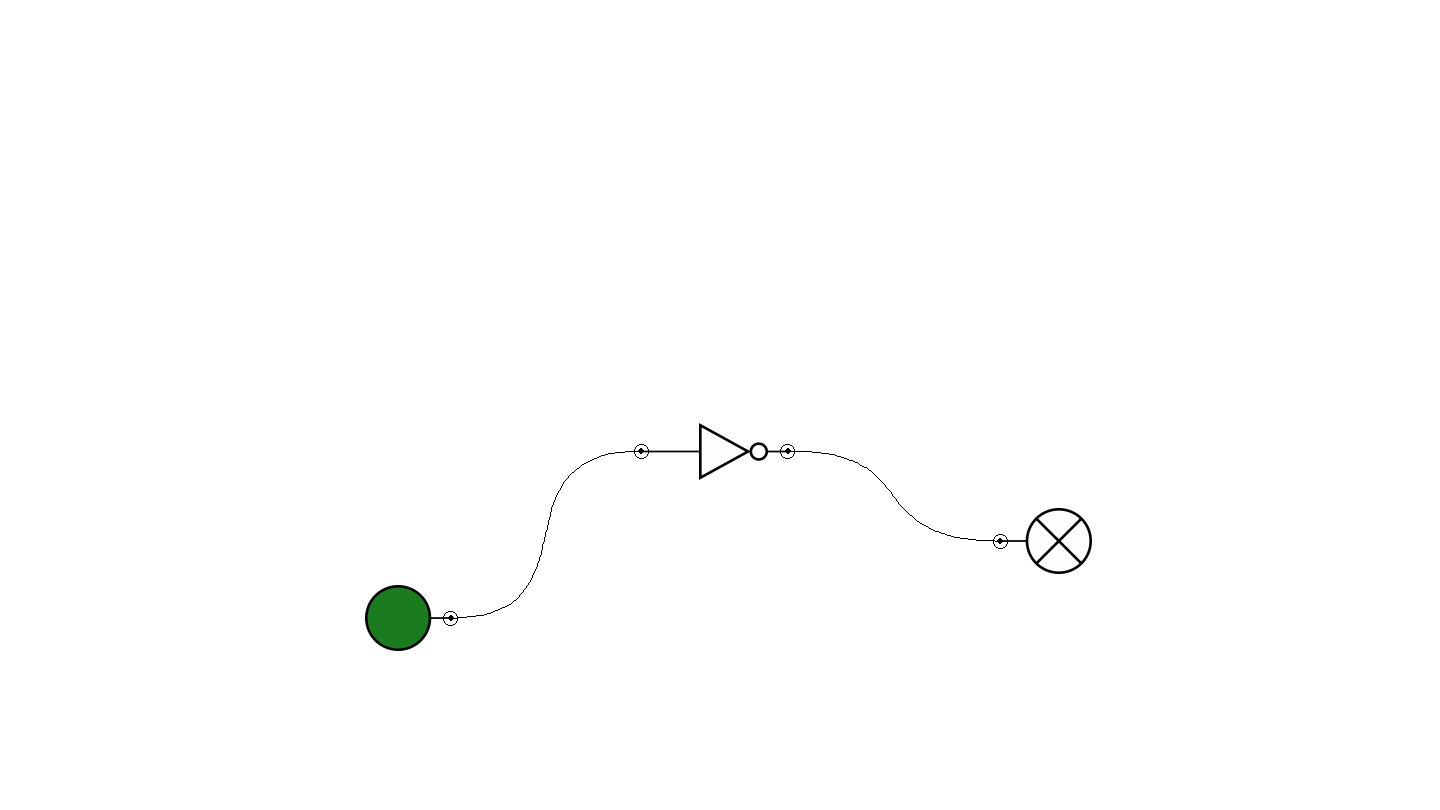bulb: (993, 508, 1092, 574)
not: (634, 423, 795, 480)
switch_True: (365, 585, 458, 651)
